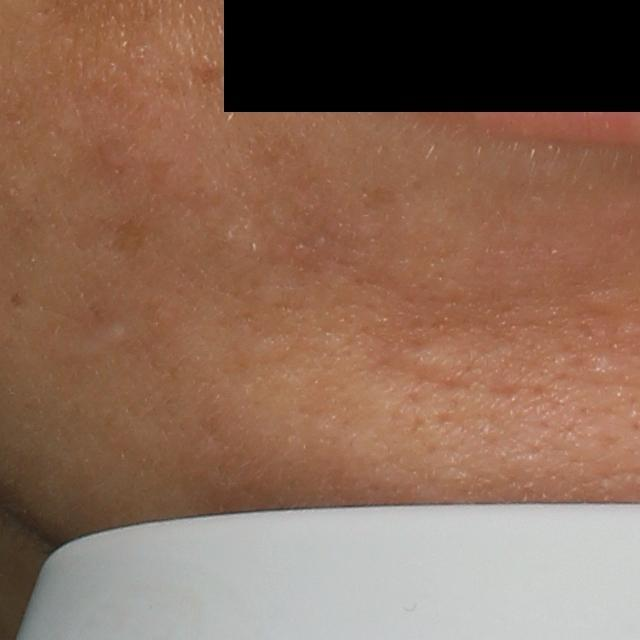hypertrophic_scar: (393, 344, 470, 386), (77, 322, 136, 349)
